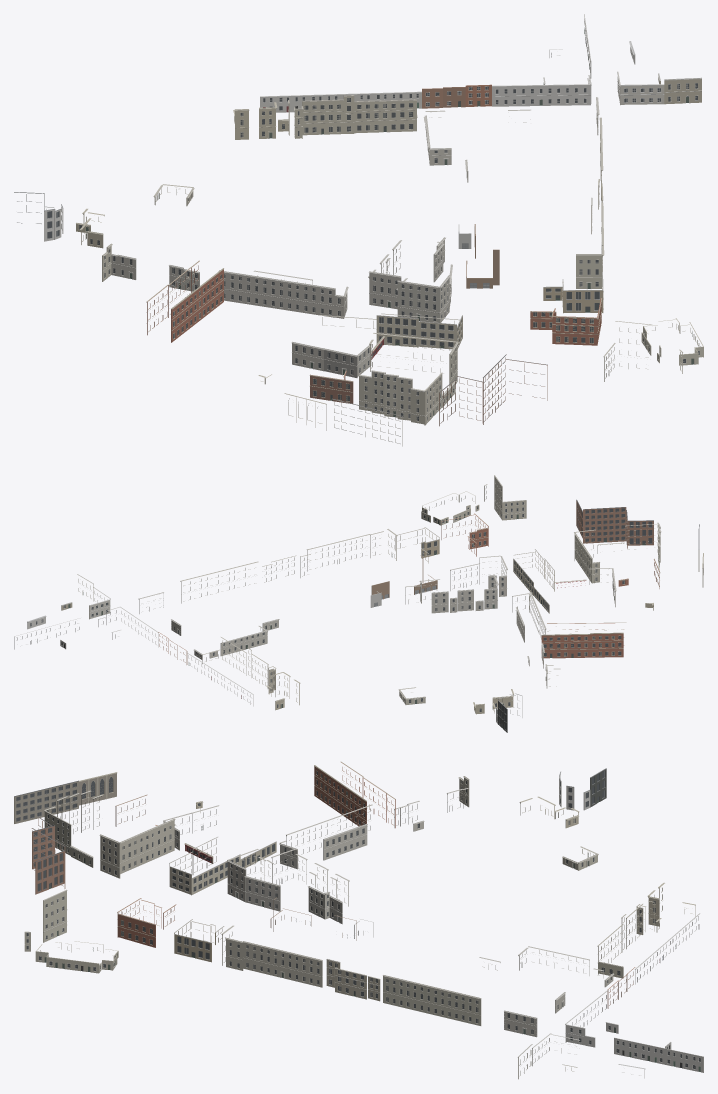
The picture shows the model from 3 angles, top to bottom: view 1: azimuth 30°, elevation 25°; view 2: azimuth 150°, elevation 25°; view 3: azimuth 270°, elevation 25°; orthographic projection. The views are drawn at different scales.
Visible parts, largest first — view 1: f:way/161131065, f:way/161131057, f:way/93900079, f:way/148828383, f:way/1258968804, f:way/161131043, f:way/1054161939, f:way/161131068, f:way/1258968756, f:way/171463858, f:way/161131038, f:way/161131061 (+8 smaller); view 2: f:way/135789461, f:way/161131043, f:way/93900079, f:way/970372393, f:way/95408685, f:way/1258968804, f:way/1201741949, f:way/161131065, f:way/161131068, f:way/161131057, f:way/109694359, f:way/161131038 (+1 smaller); view 3: f:way/93900079, f:way/172008805, f:way/161131050, f:way/1201741949, f:way/161131043, f:way/1258968804, f:way/135789461, f:way/191546289, f:way/161131057, f:way/170821091, f:way/148828383, f:way/161131068 (+9 smaller).
Part boxes in pixels (x1,y1,x2,y2): f:way/161131065: [288, 95, 417, 138]; f:way/161131057: [218, 270, 348, 318]; f:way/93900079: [368, 237, 452, 322]; f:way/148828383: [358, 370, 456, 425]; f:way/1258968804: [319, 313, 462, 349]; f:way/161131043: [146, 260, 223, 342]; f:way/1054161939: [492, 75, 591, 106]; f:way/161131068: [530, 298, 602, 345]; f:way/1258968756: [291, 341, 371, 377]; f:way/171463858: [260, 91, 421, 112]; f:way/161131038: [543, 272, 603, 313]; f:way/161131061: [233, 102, 288, 139]; f:way/135789461: [576, 499, 653, 548]; f:way/161131043: [541, 622, 626, 658]; f:way/93900079: [405, 555, 507, 613]; f:way/970372393: [484, 475, 526, 520]; f:way/95408685: [194, 626, 267, 659]; f:way/1258968804: [513, 549, 554, 613]; f:way/1201741949: [574, 529, 599, 583]; f:way/161131065: [202, 637, 276, 693]; f:way/161131068: [441, 513, 488, 556]; f:way/161131057: [512, 591, 546, 642]; f:way/109694359: [421, 491, 479, 525]; f:way/161131038: [395, 527, 439, 563]; f:way/93900079: [227, 849, 349, 924]; f:way/172008805: [221, 925, 322, 987]; f:way/161131050: [382, 975, 481, 1025]; f:way/1201741949: [99, 818, 175, 878]; f:way/161131043: [314, 761, 395, 828]; f:way/1258968804: [169, 837, 276, 895]; f:way/135789461: [31, 816, 65, 894]; f:way/191546289: [14, 780, 78, 823]; f:way/161131057: [279, 804, 372, 869]; f:way/170821091: [614, 1037, 703, 1072]; f:way/148828383: [44, 790, 102, 867]; f:way/161131068: [117, 898, 176, 947].
Bounding box in the file's own units: 255 × 19.7 × 257.
